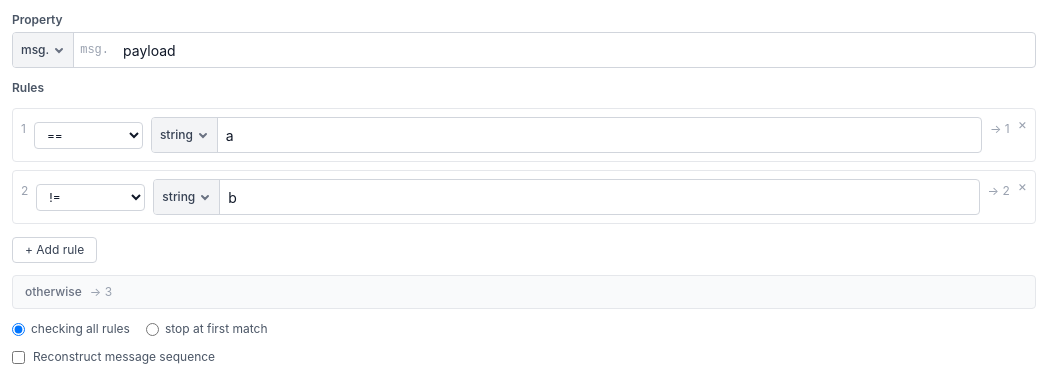
it: SwitchEditor › removes a rule when the remove button is clicked
Expected: the element with test id "switch-rule-0" is shown, [12, 108, 1036, 162]
Expected: the element with test id "switch-rule-1" is shown, [12, 170, 1036, 224]
// Remove the second rule
Click the button with test id "switch-remove-rule-1": (1022, 186) [1018, 179, 1027, 193]
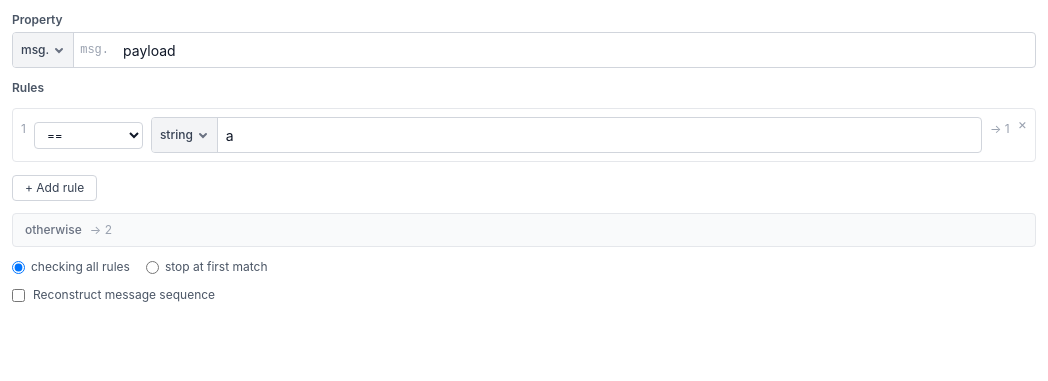
Expected: the element with test id "switch-rule-0" is shown, [12, 108, 1036, 162]
Expected: the element with test id "switch-rule-1" is gone
